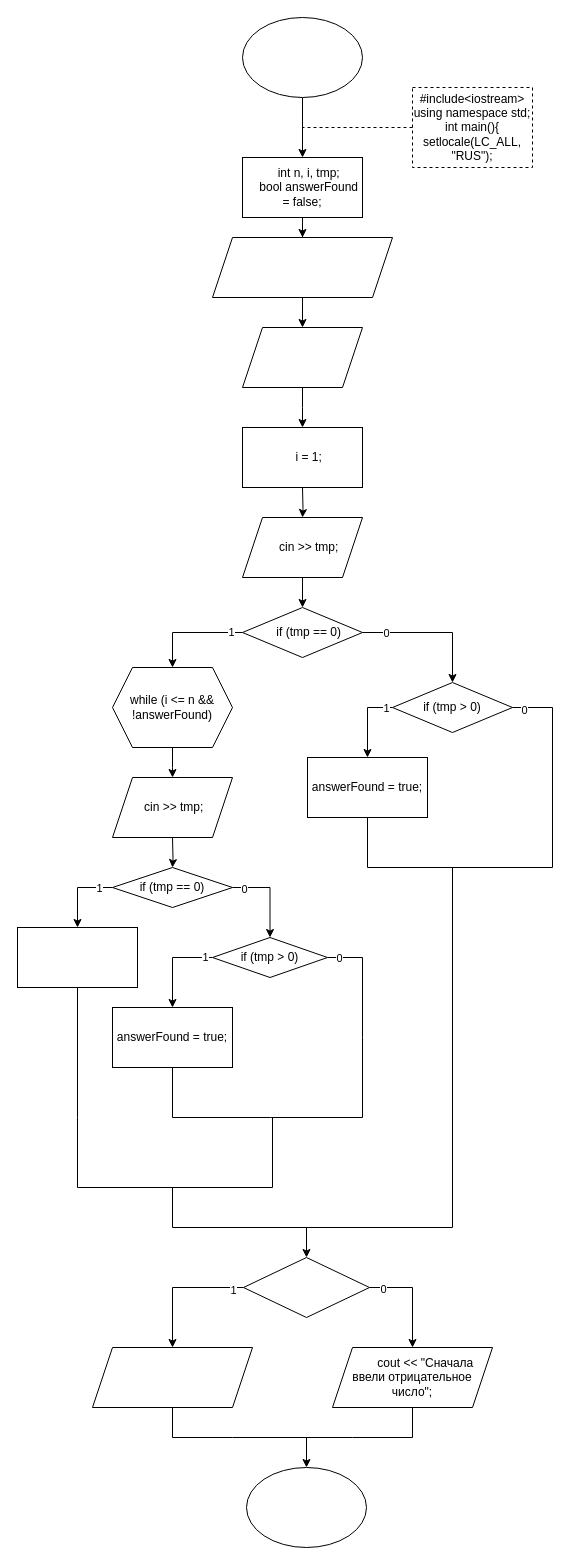
This 571x1565 diagram has some shape labels left out. Each missing label, with the box of its shape:
cin >> n;: (242, 326, 362, 388)
cout << "Введите длину последовательности:\n";: (212, 236, 392, 298)
cout << "Сначала ввели положительное число";: (92, 1346, 252, 1408)
i++;: (16, 926, 138, 988)
if (answerFound): (242, 1256, 370, 1318)
Конец: (246, 1466, 366, 1548)
Начало: (242, 16, 362, 98)
